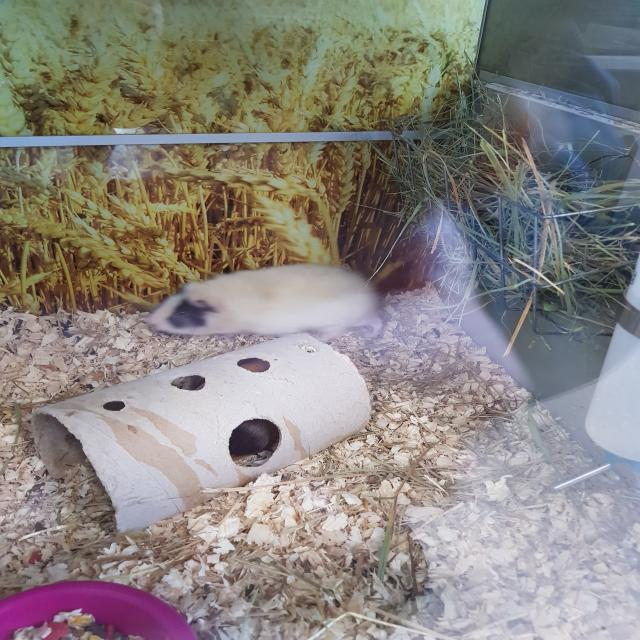guinea pig: (140, 260, 397, 343)
